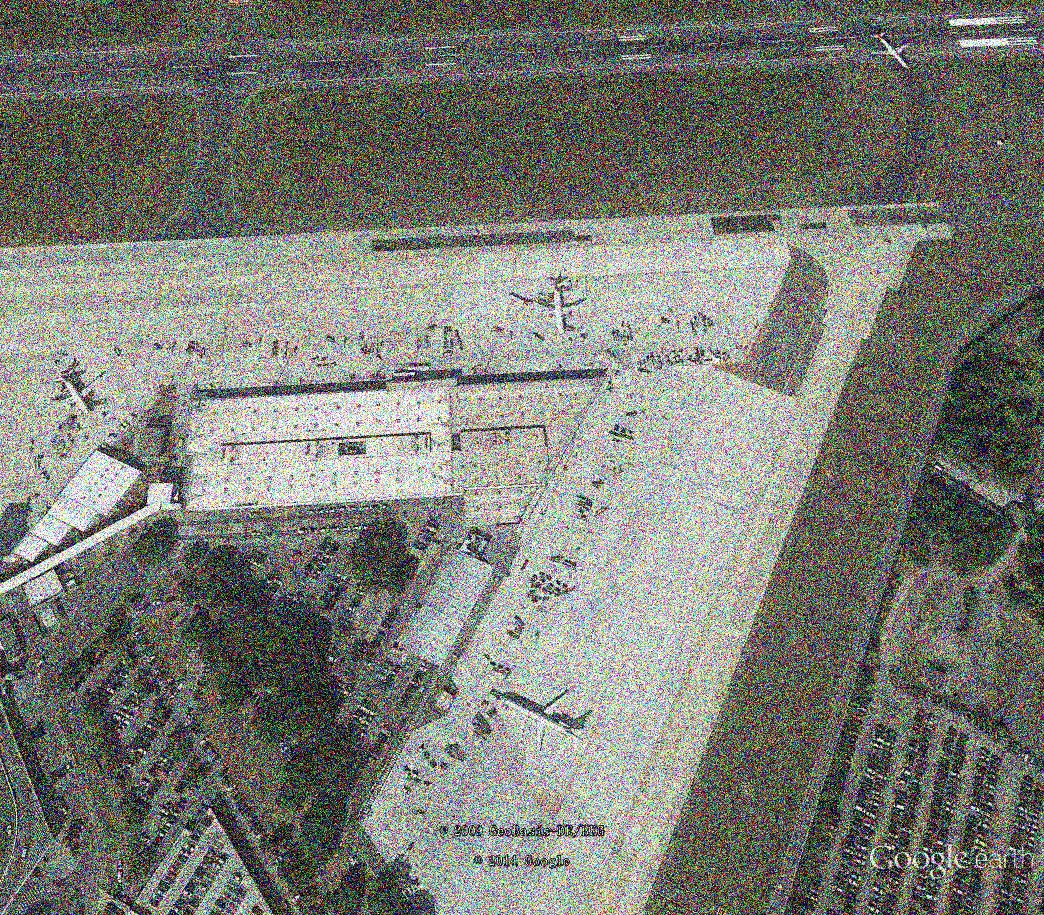aircraft: (499, 690, 592, 759), (43, 367, 112, 420), (531, 280, 589, 339), (867, 28, 913, 73)
